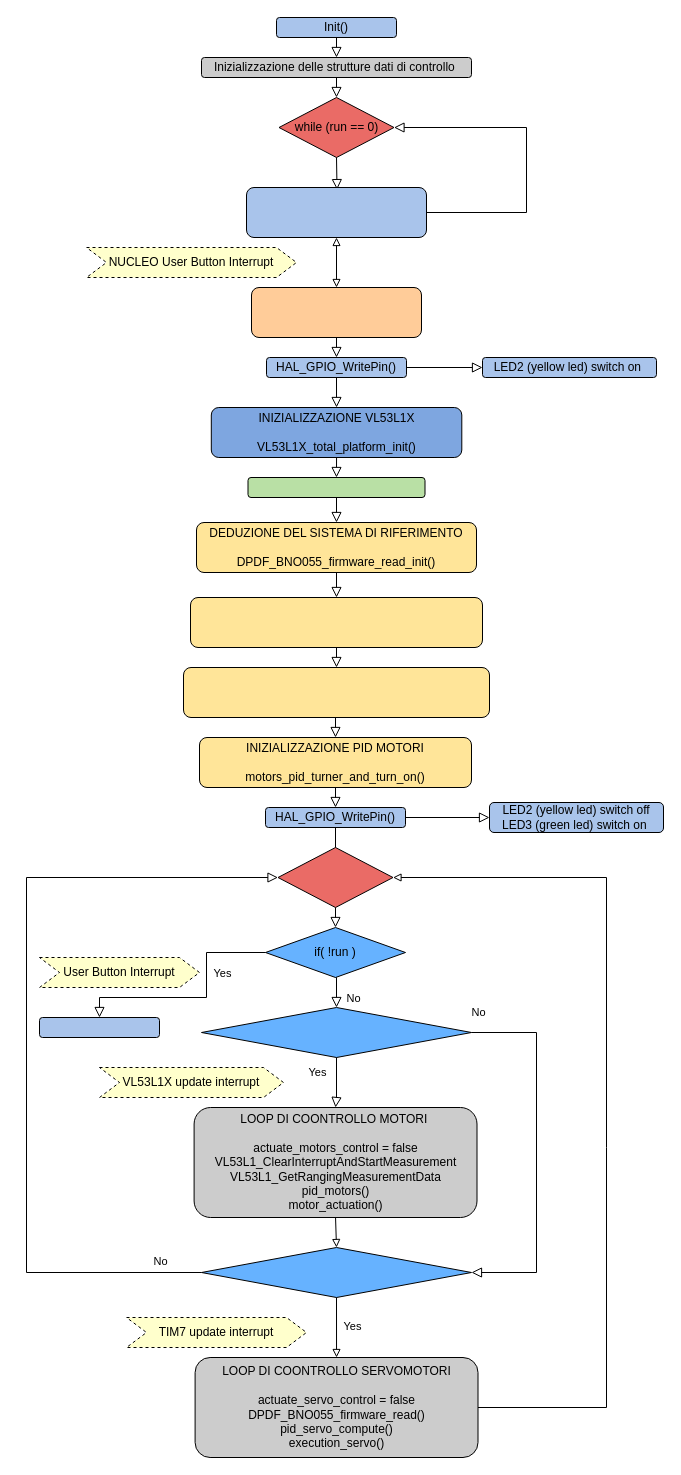
Image size: 681x1475. Some labels were removed from this diagram. Each missing label, with the box of its shape:
ATTESA DELL'INTERRUPT __WFI(): (246, 186, 426, 238)
AVVIAMENTO SICURO safe_startup(): (250, 286, 422, 338)
if( actuate_motors_control == true): (200, 1006, 472, 1058)
if( actuate_servo_control == true): (200, 1246, 472, 1298)
INIZIALIZZAZIONE BNO-055: (247, 476, 425, 498)
INIZIALIZZAZIONE PID SERVOMOTORE PITCH pid_servo_pitch_turner_and_turn_on(): (182, 666, 490, 718)
INIZIALIZZAZIONE PID SERVOMOTORE ROLL pid_servo_roll_turner_and_turn_on(): (190, 596, 482, 648)
shutdown(): (38, 1016, 160, 1038)
while(1): (277, 846, 393, 908)
